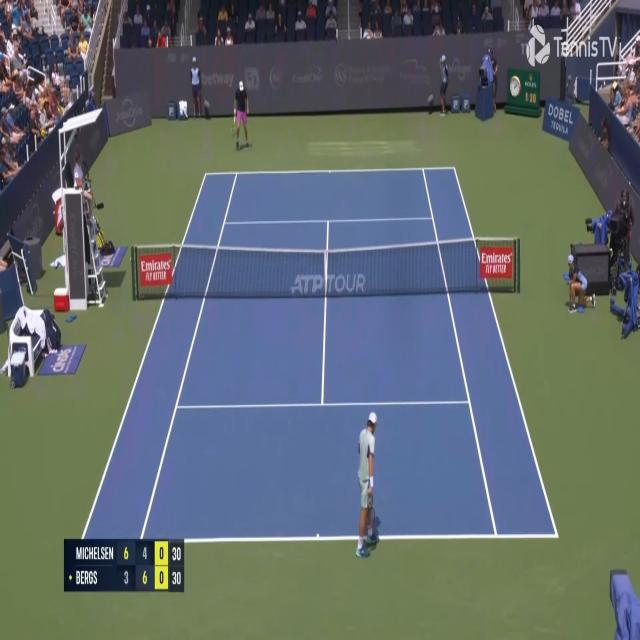tennis-player: (353, 408, 383, 562), (231, 79, 250, 150)
